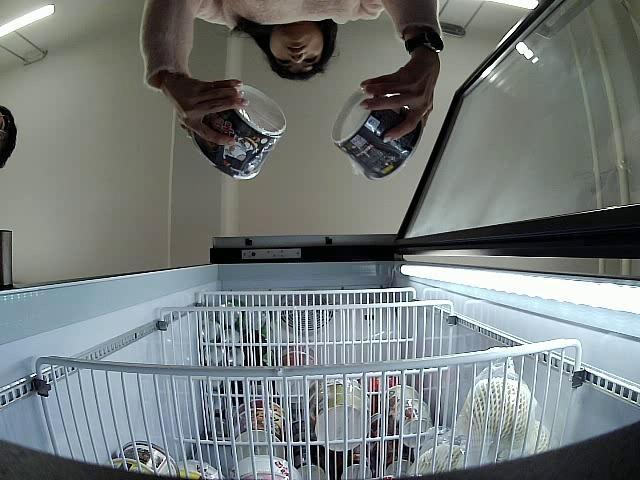07_buldak_L: (192, 83, 287, 183), (330, 88, 421, 184)
